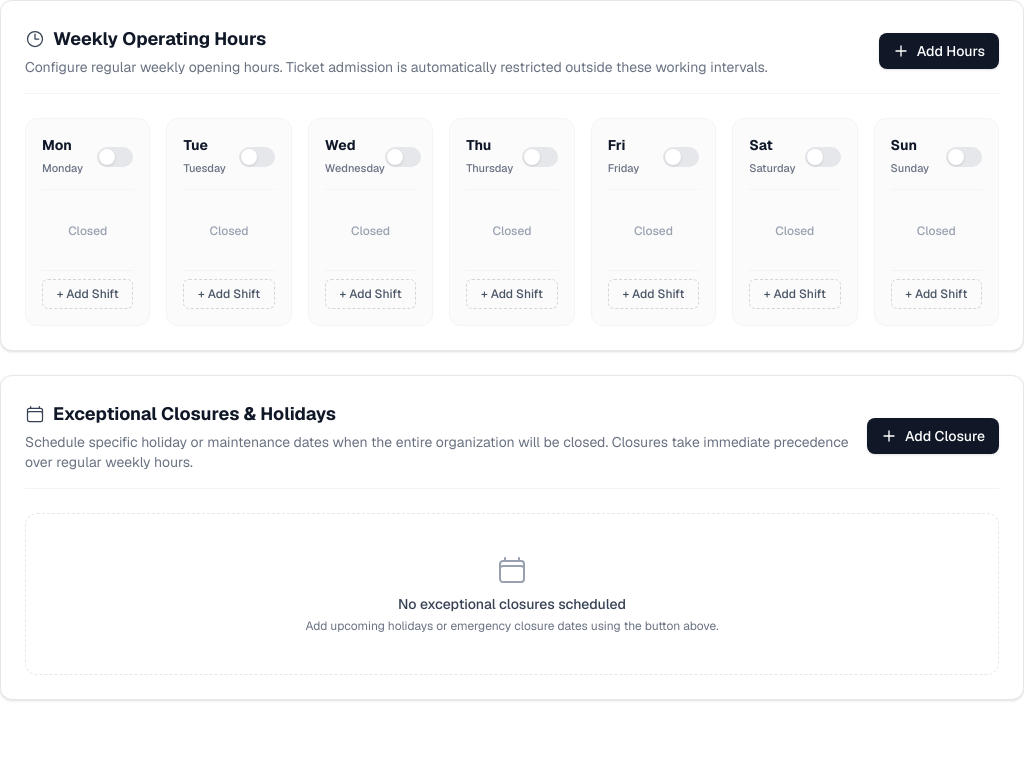
Test: OperatingHoursManagement Component › validates time constraints client-side when adding an interval
expect the heading "Weekly Operating Hours" is shown: met, box [53,25,266,53]
# Click Add Hours button
Click the button "Add Hours": (939, 51) [879,33,999,69]
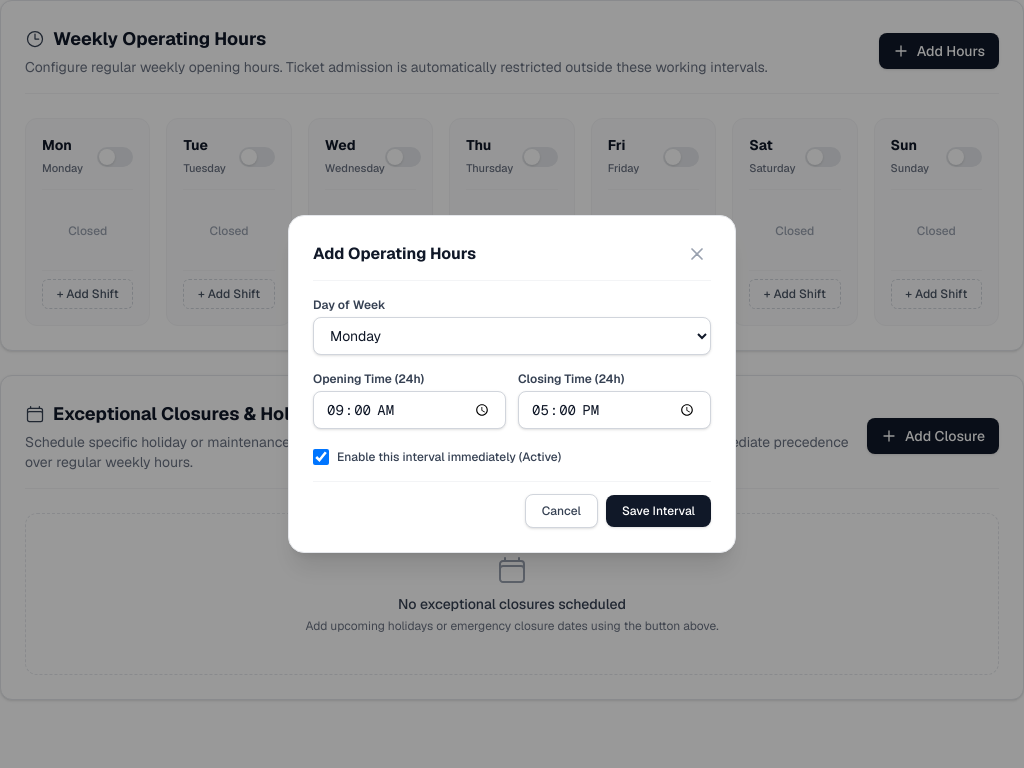
expect the dialog is shown: met
Replace the text in the time field labelled "Opening Time (24h)" with "17:00": (410, 410) [313,391,506,429]
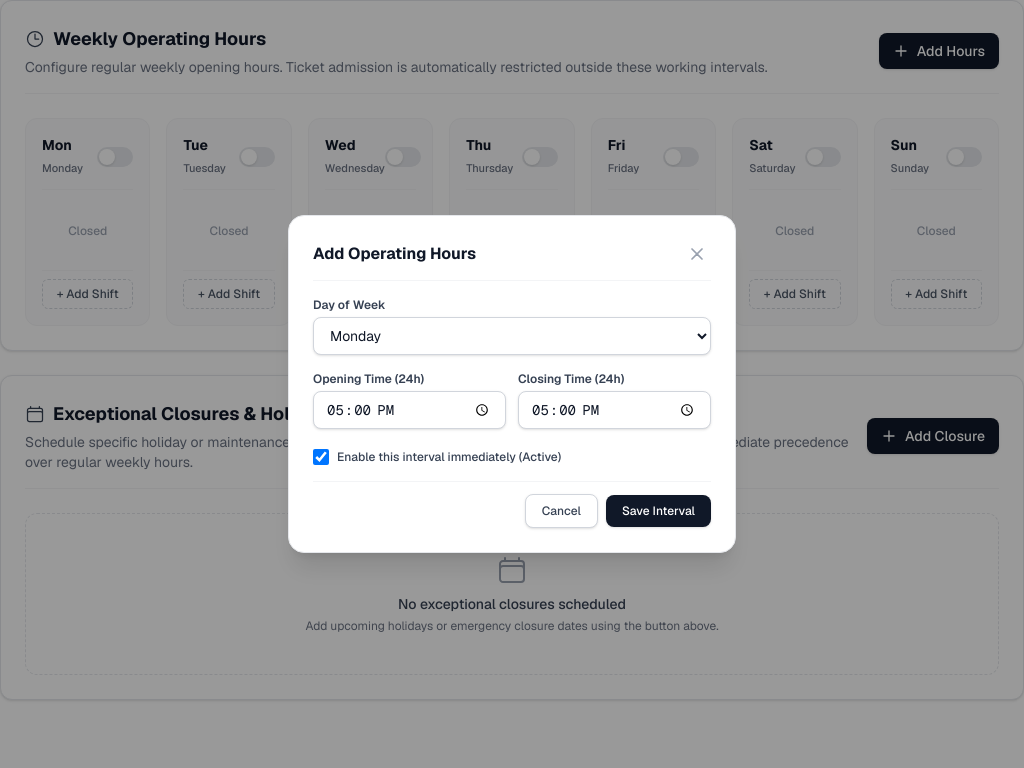
Replace the text in the time field labelled "Closing Time (24h)" with "09:00": (614, 410) [518,391,711,429]
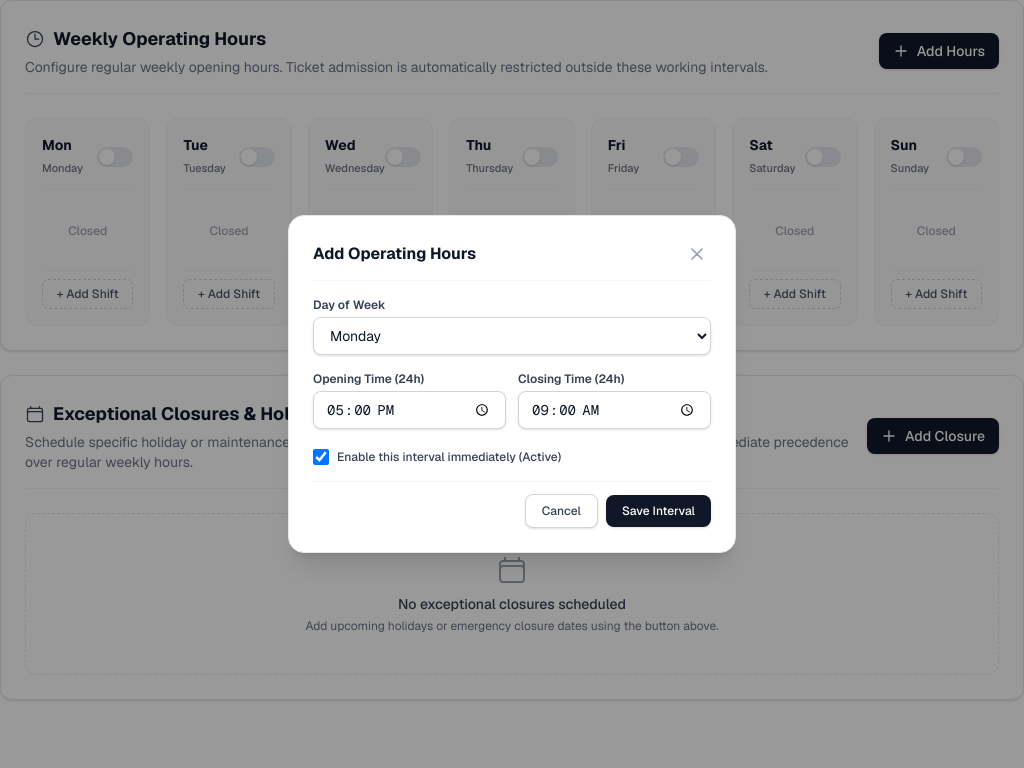
Click the button "Save Interval": (658, 511) [606,495,711,527]
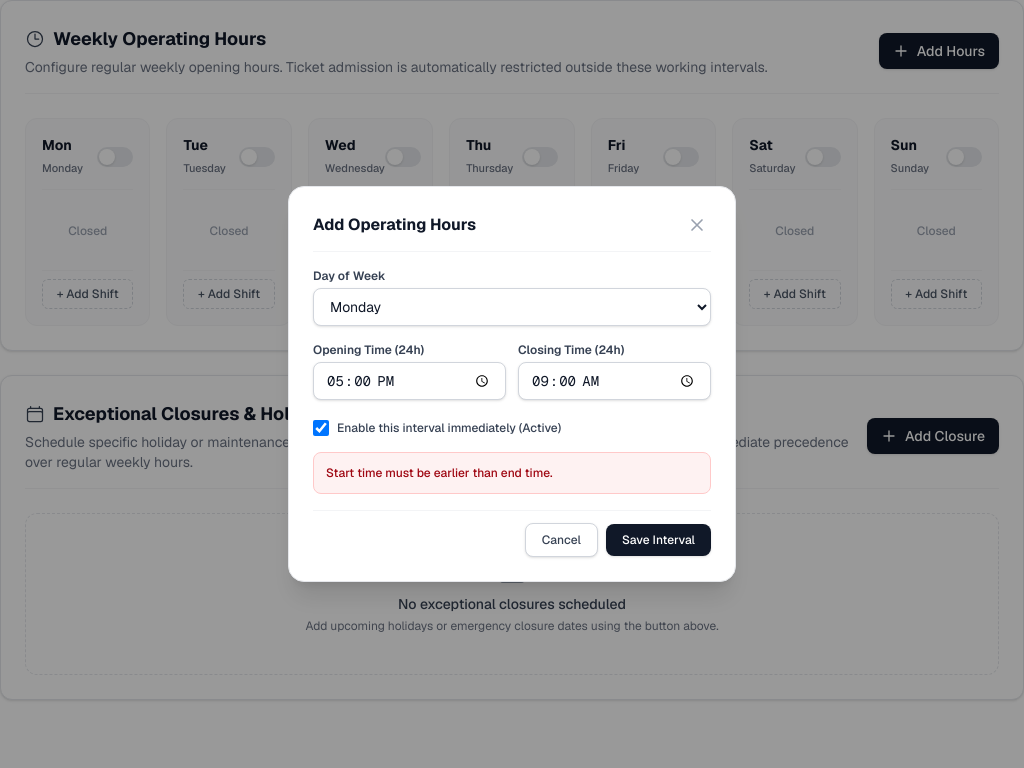
expect the text "Start time must be earlier than end time." is shown: met, box [313,452,711,494]
